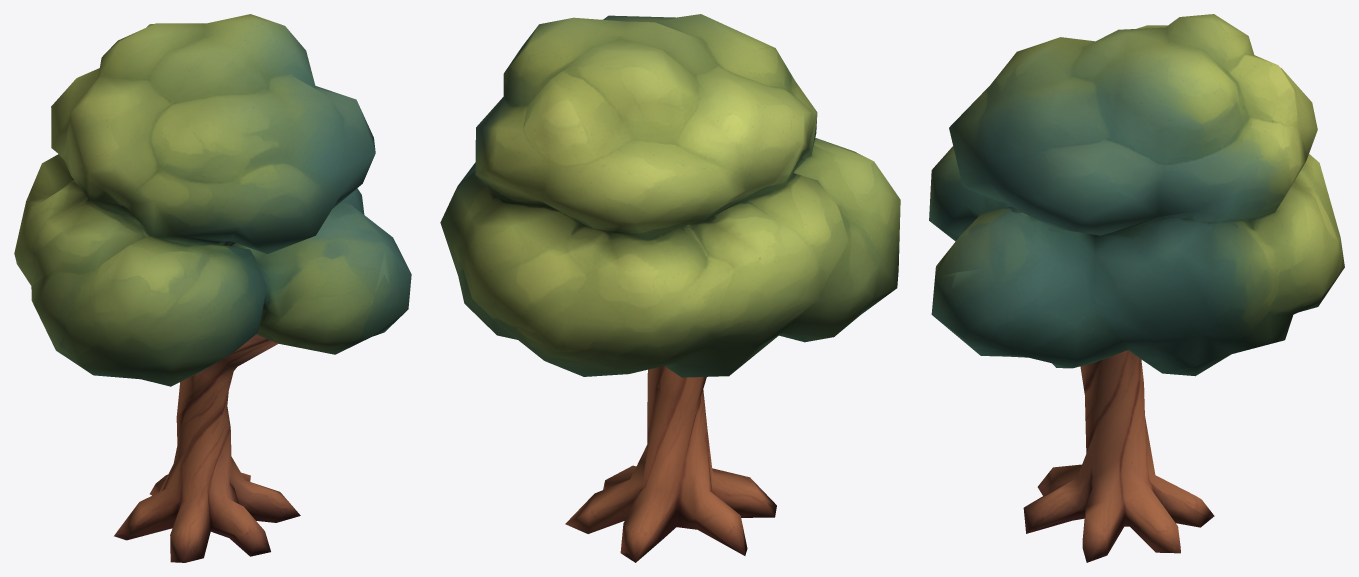
Rendered from young_round_2.glb.
3 renders of one model, left to right at view 1: azimuth 30°, elevation 25°; view 2: azimuth 150°, elevation 25°; view 3: azimuth 270°, elevation 25°, orthographic. The views are drawn at different scales.
Parts seen in each view (by area): view 1: geometry_0.001; view 2: geometry_0.001; view 3: geometry_0.001.
Part boxes in pixels (x1,y1,x2,y2): geometry_0.001: (14, 14, 411, 562); geometry_0.001: (440, 14, 900, 562); geometry_0.001: (929, 14, 1344, 562).
Bounding box in the file's own units: 1.48 × 1.99 × 1.5.
1 material, 1 textured.
